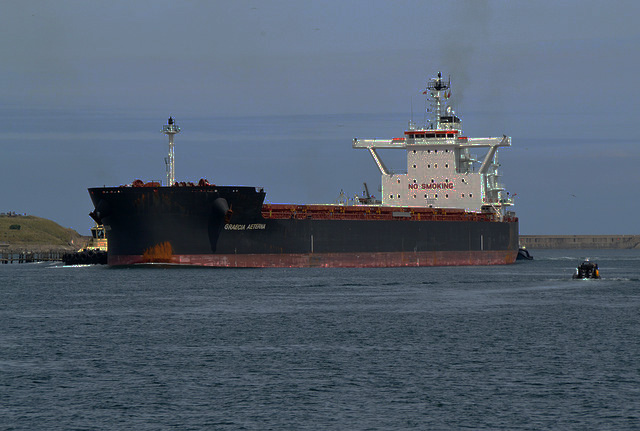boat: (572, 252, 601, 283)
bulk carrier: (90, 75, 530, 268)
tug_boat: (64, 214, 111, 262)
